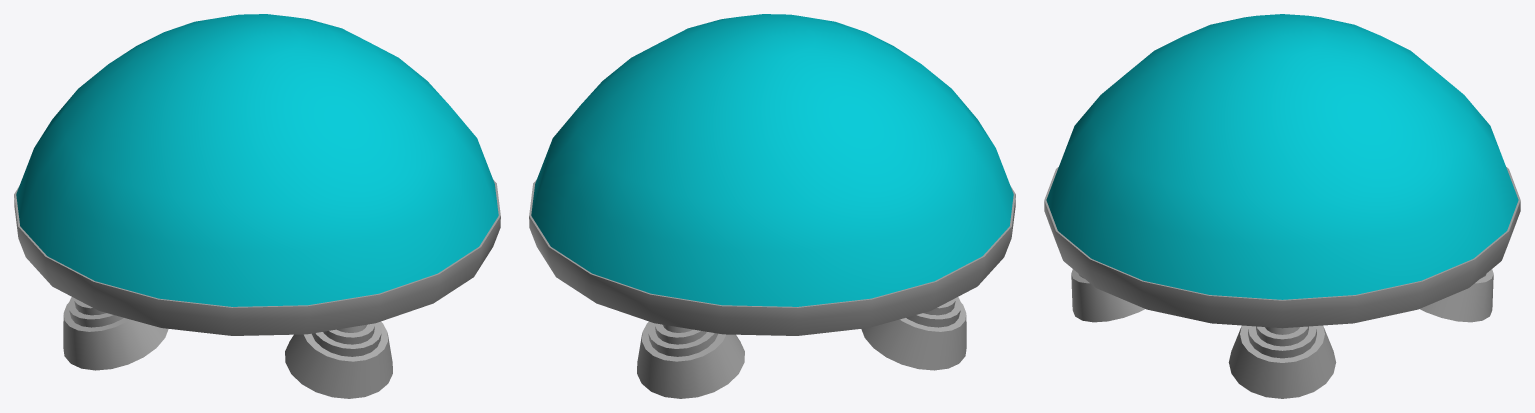
File: CombineBaseNoAnimation.fbx
3 renders of one model, left to right at view 1: azimuth 30°, elevation 25°; view 2: azimuth 150°, elevation 25°; view 3: azimuth 270°, elevation 25°, orthographic. The views are drawn at different scales.
Parts seen in each view (by area): view 1: defense_bubble, combineBase, foot_Front, foot_Right, leg_fat_Front, leg_fat_Right, leg_mid_Front; view 2: defense_bubble, combineBase, foot_Back, foot_Right, leg_fat_Back, leg_fat_Right, leg_mid_Back; view 3: defense_bubble, combineBase, foot_Left, foot_Front, foot_Back, leg_fat_Left, leg_mid_Left.
Part boxes in pixels (<box>): defense_bubble: <box>16,14,498,306</box>; combineBase: <box>14,180,500,335</box>; foot_Front: <box>285,321,392,398</box>; foot_Right: <box>63,302,168,370</box>; leg_fat_Front: <box>312,322,381,356</box>; leg_fat_Right: <box>68,297,123,327</box>; leg_mid_Front: <box>323,323,374,344</box>; defense_bubble: <box>531,14,1013,306</box>; combineBase: <box>529,180,1015,335</box>; foot_Back: <box>637,321,744,398</box>; foot_Right: <box>861,302,966,370</box>; leg_fat_Back: <box>648,322,717,356</box>; leg_fat_Right: <box>906,297,961,327</box>; leg_mid_Back: <box>655,323,706,344</box>; defense_bubble: <box>1046,14,1518,299</box>; combineBase: <box>1044,167,1520,328</box>; foot_Left: <box>1228,325,1336,398</box>; foot_Front: <box>1071,269,1144,322</box>; foot_Back: <box>1420,269,1493,322</box>; leg_fat_Left: <box>1248,326,1316,358</box>; leg_mid_Left: <box>1256,326,1308,346</box>.
Size of the model in its own units: 0.8327 by 0.5309 by 0.8327.
